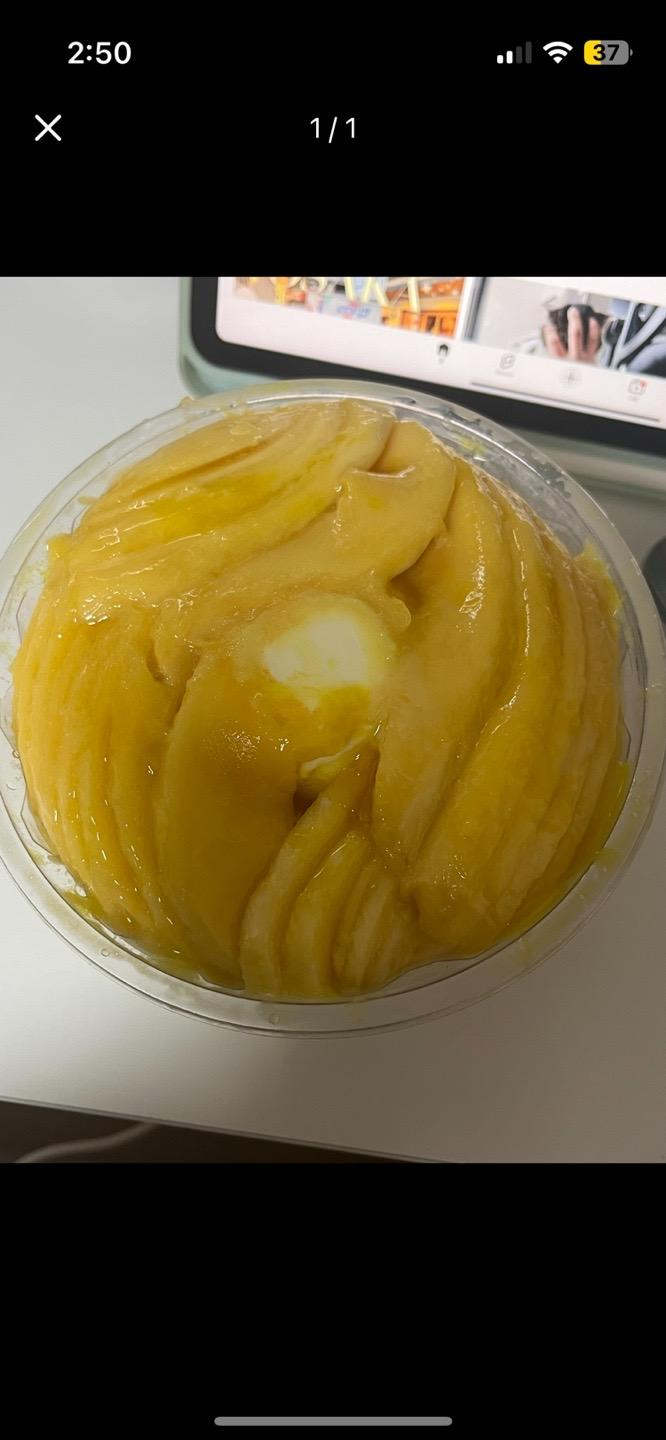Lunch Box: (0, 381, 665, 1037)
